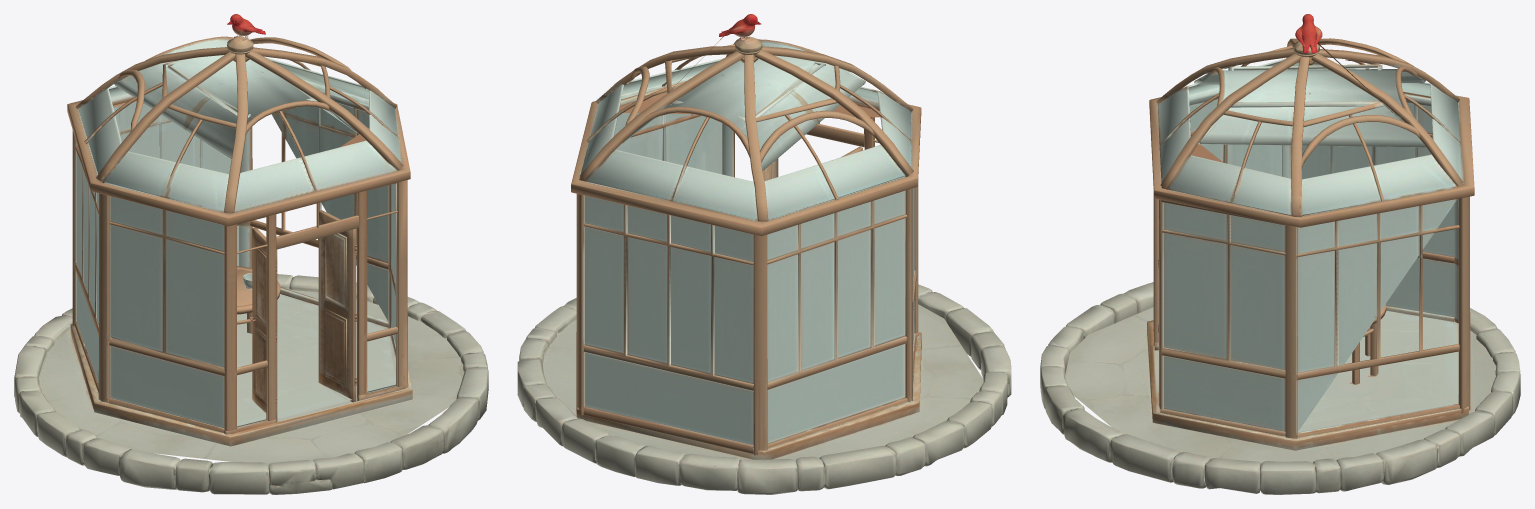
The model's file is station_4.glb.
3 renders of one model, left to right at view 1: azimuth 30°, elevation 25°; view 2: azimuth 150°, elevation 25°; view 3: azimuth 270°, elevation 25°, orthographic. The views are drawn at different scales.
Parts seen in each view (by area): view 1: tripo_node_71aff6ba-721a-40a4-a685-b0e6d230878d; view 2: tripo_node_71aff6ba-721a-40a4-a685-b0e6d230878d; view 3: tripo_node_71aff6ba-721a-40a4-a685-b0e6d230878d.
Boxes of the visible parts, x1,y1,x2,y2 form: tripo_node_71aff6ba-721a-40a4-a685-b0e6d230878d: (14,14,488,494); tripo_node_71aff6ba-721a-40a4-a685-b0e6d230878d: (517,14,1011,494); tripo_node_71aff6ba-721a-40a4-a685-b0e6d230878d: (1040,14,1520,494).
Size of the model in its own units: 0.9995 by 0.8716 by 0.9976.
1 material, 1 textured.
